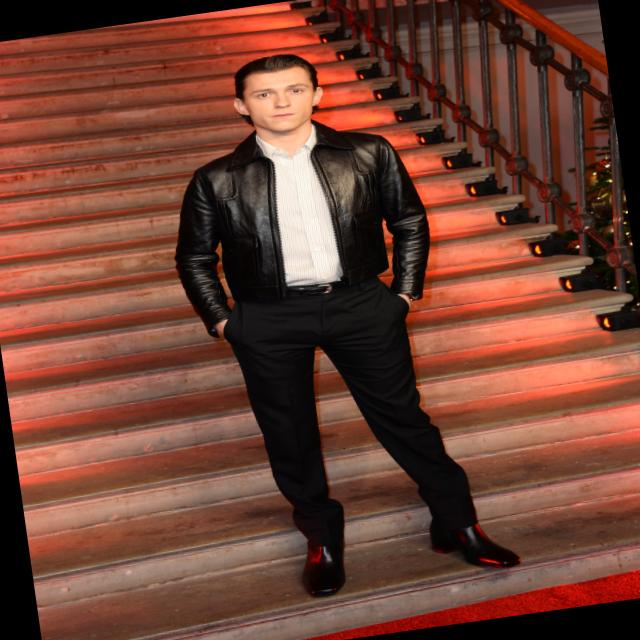Jacket: (159, 107, 467, 366)
